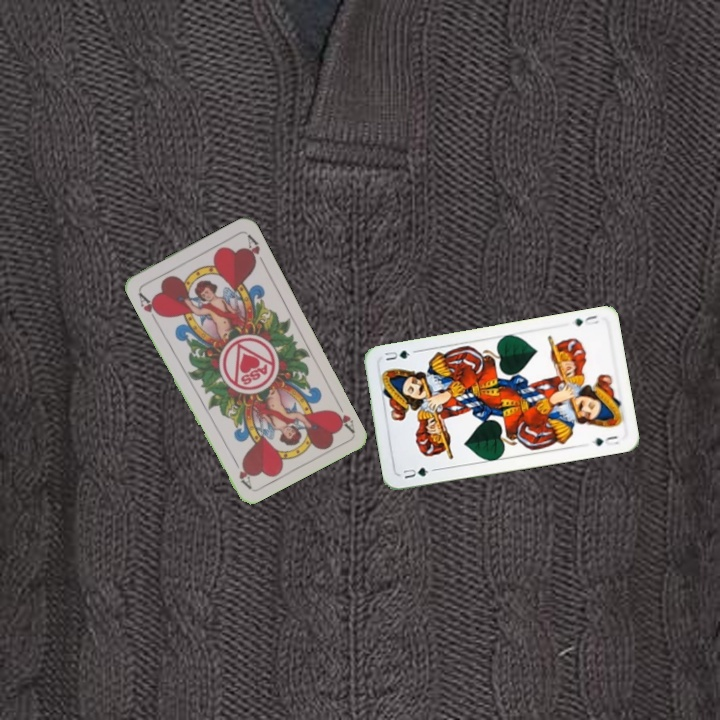GU: (398, 463, 437, 481), (571, 311, 602, 329)
HA: (328, 396, 357, 435), (135, 288, 164, 325)
